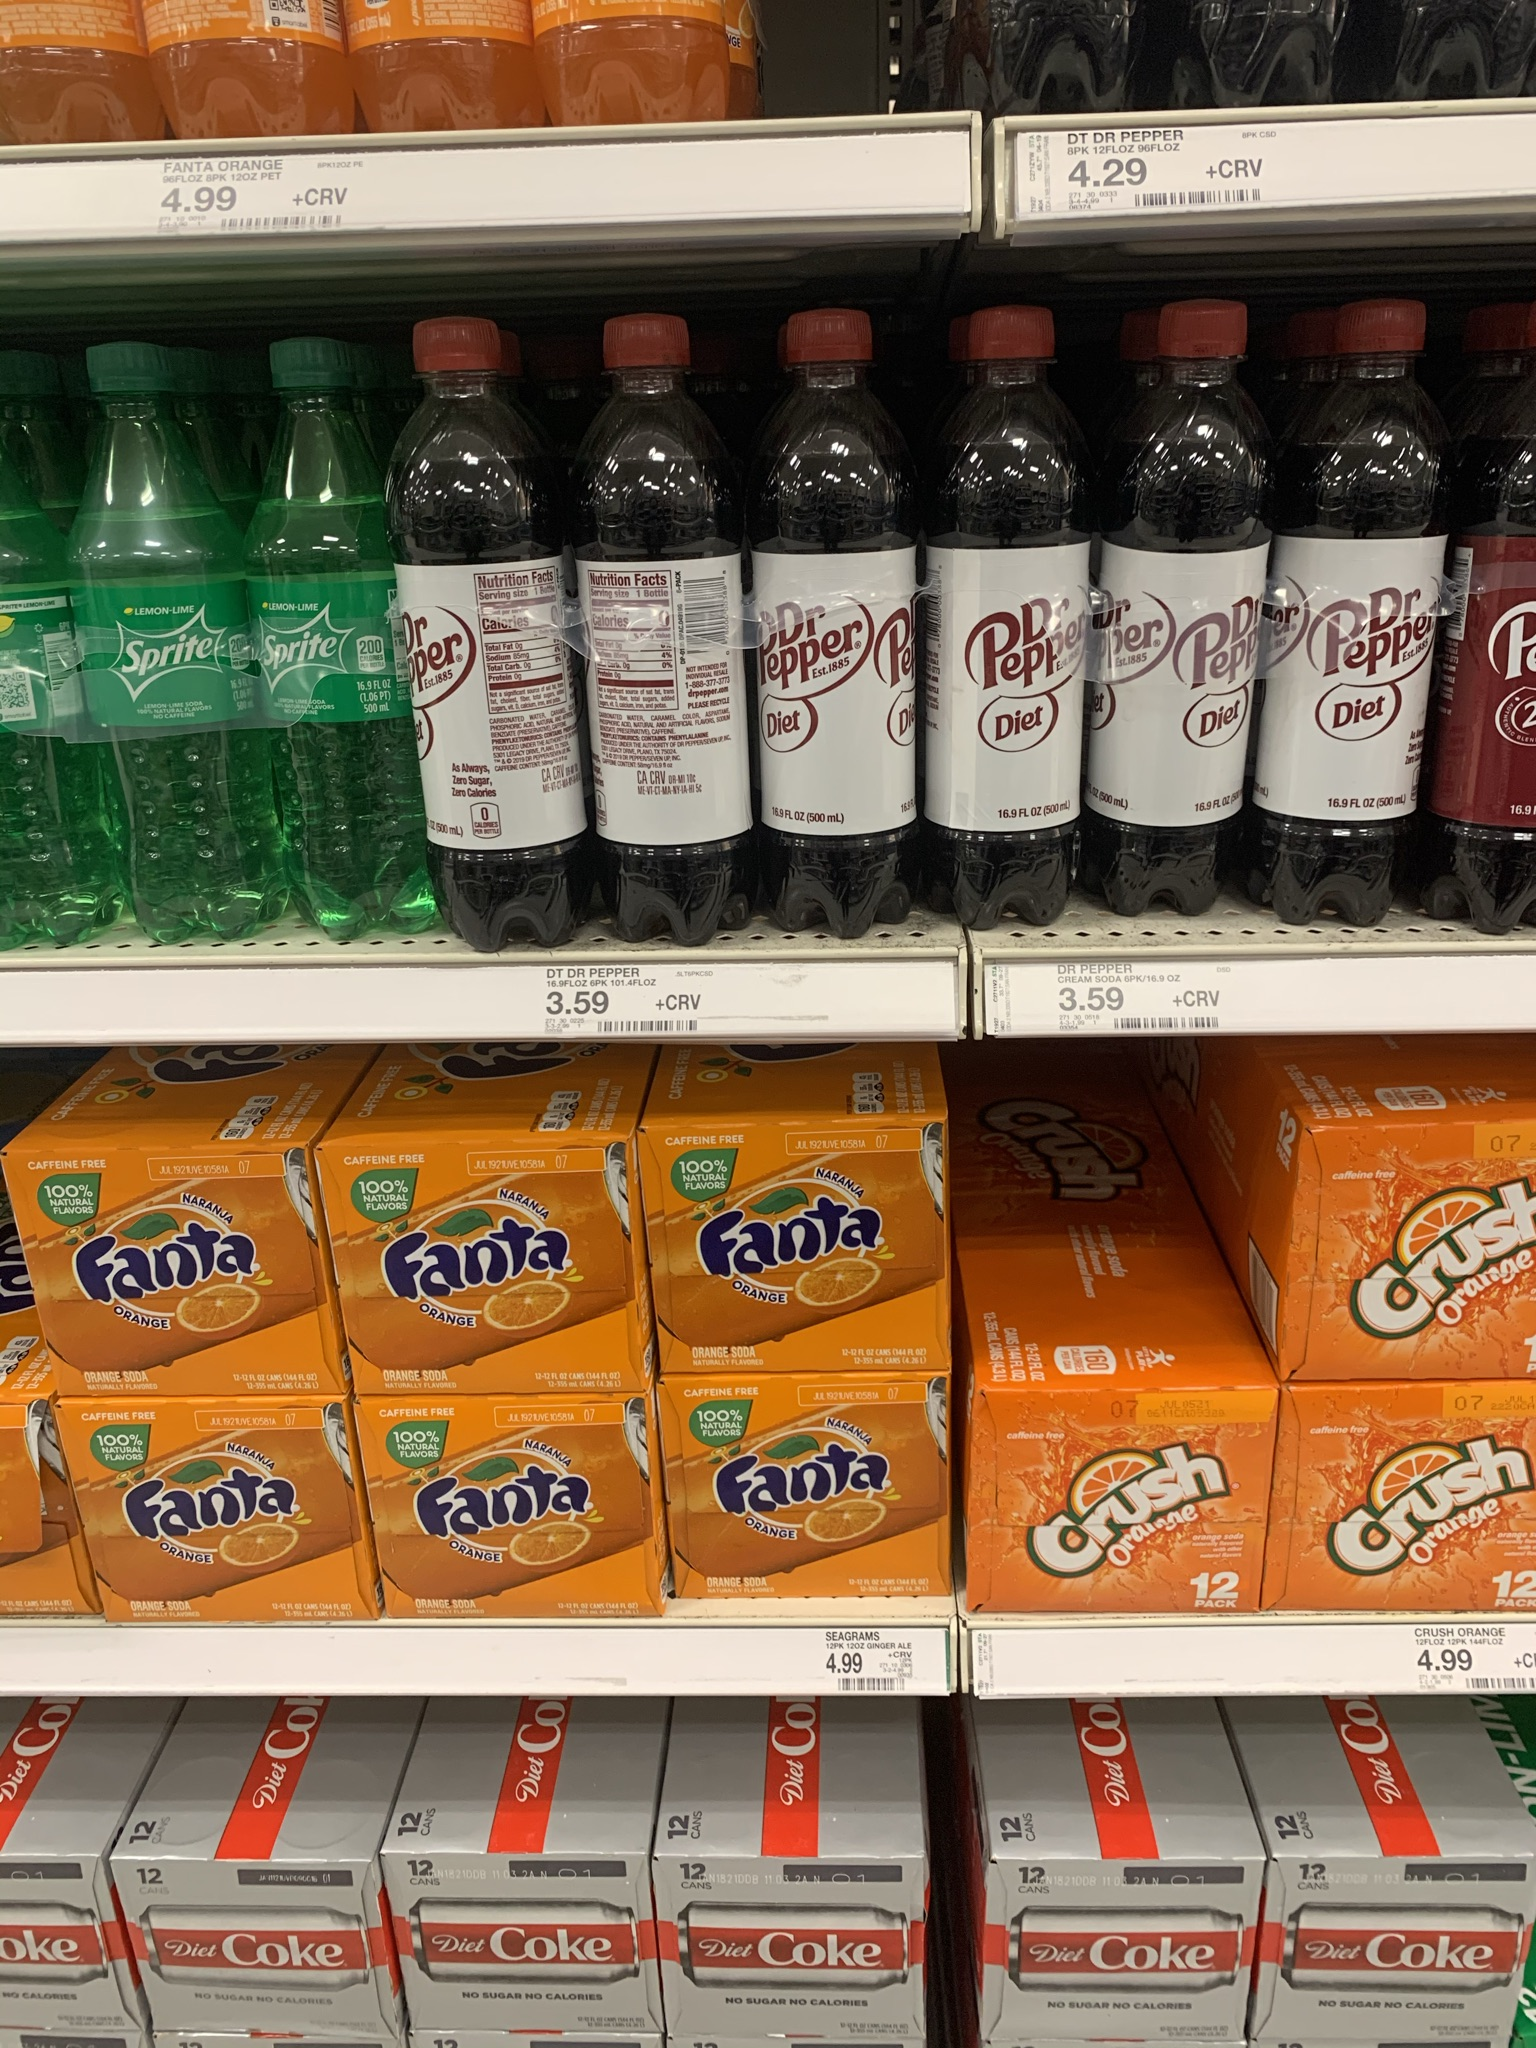Soda: (397, 311, 586, 955), (579, 310, 757, 963), (760, 295, 926, 948), (1096, 290, 1265, 922), (1271, 293, 1439, 922), (929, 293, 1091, 934), (645, 1130, 957, 1376), (331, 1151, 636, 1401), (975, 1388, 1267, 1617), (660, 1376, 950, 1603), (365, 1400, 658, 1621), (989, 1850, 1258, 2046), (658, 1854, 926, 2046), (382, 1856, 650, 2045), (1267, 1856, 1530, 2045), (131, 1867, 389, 2037)
